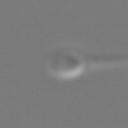normal: (84, 47, 128, 74)
